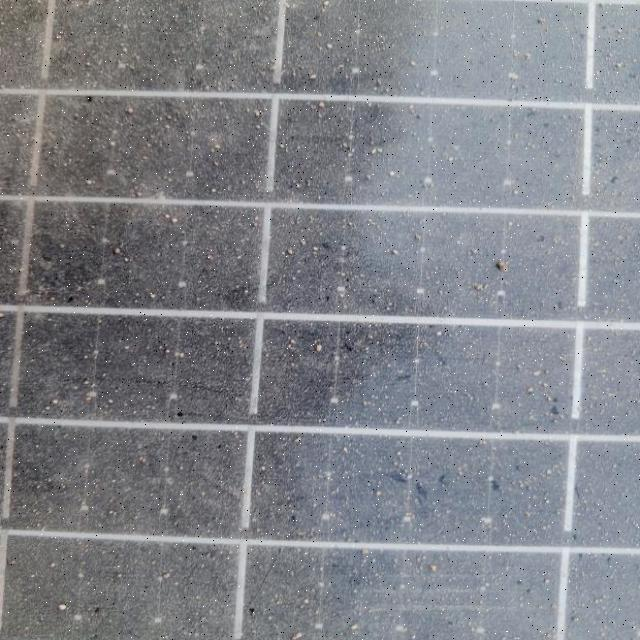Anomaly Solar Panel: (0, 0, 620, 640)
